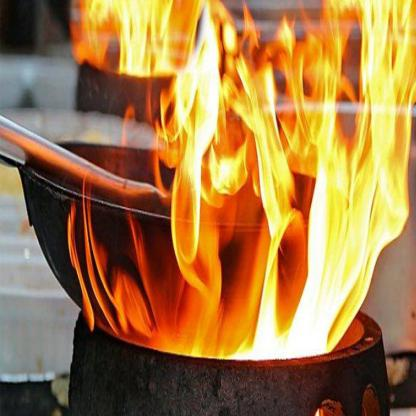fire: (69, 0, 416, 369)
